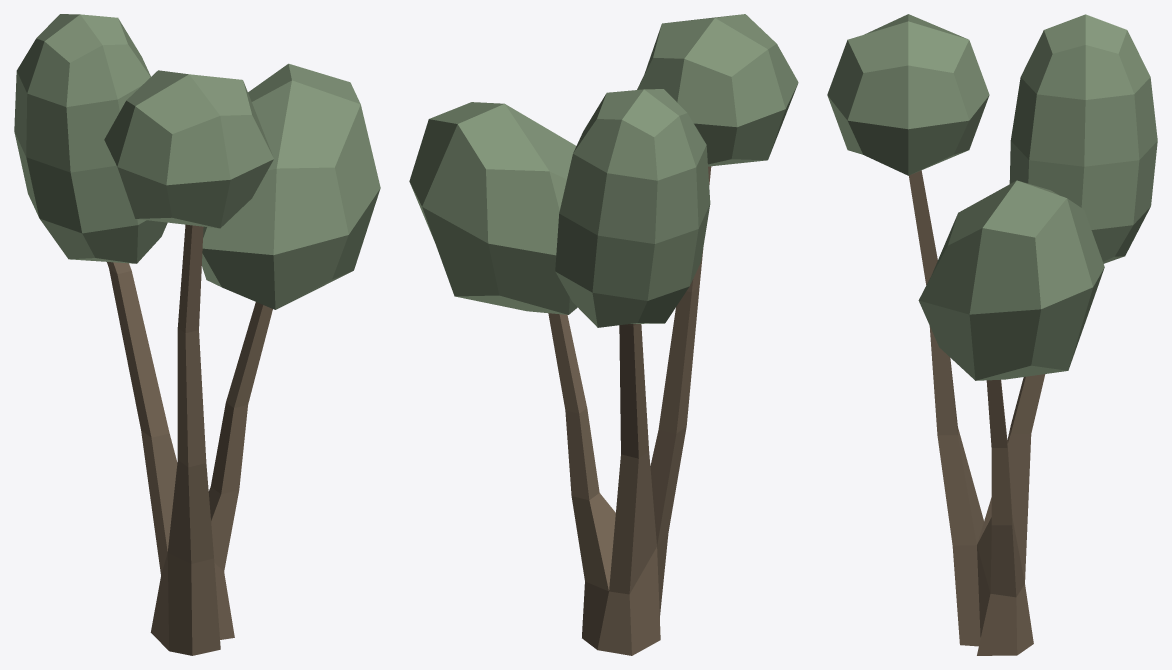
File: ArbusteBlocking2.fbx
3 views of the same model, side by side, from view 1: azimuth 30°, elevation 25°; view 2: azimuth 150°, elevation 25°; view 3: azimuth 270°, elevation 25° (orthographic). The views are drawn at different scales.
Parts seen in each view (by area): view 1: Shrub2; view 2: Shrub2; view 3: Shrub2.
Part boxes in pixels (x1,y1,x2,y2): Shrub2: [14, 14, 380, 655]; Shrub2: [409, 14, 798, 655]; Shrub2: [827, 14, 1157, 655].
Bounding box in the file's own units: 556 × 1025 × 515.
